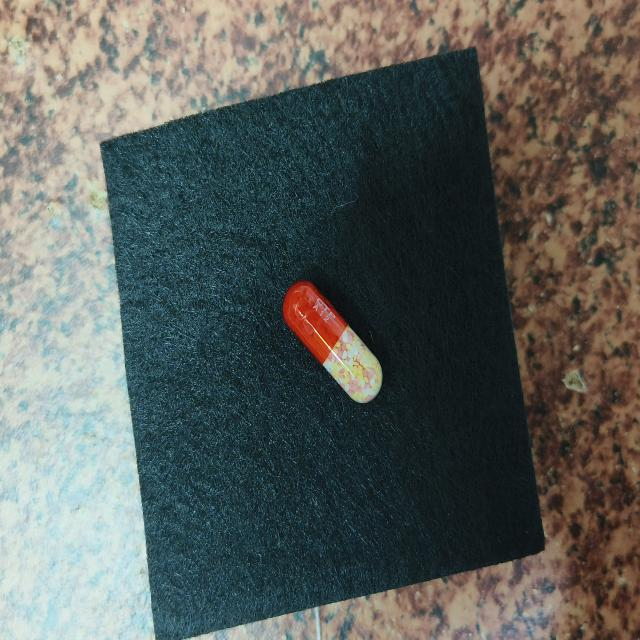Intact Capsule: (283, 281, 383, 403)
